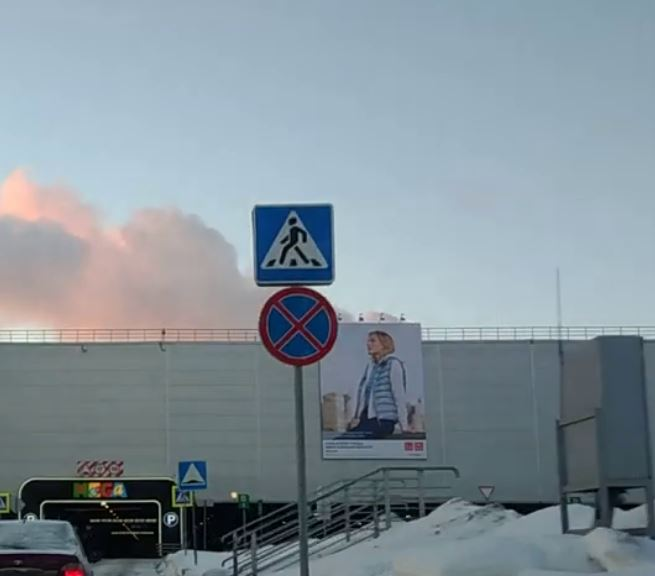Yaya Gecidi: (252, 206, 328, 281)
